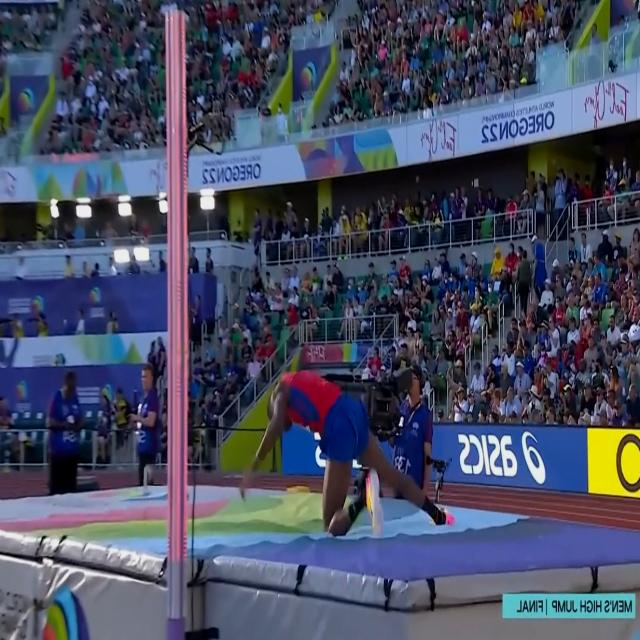land: (245, 368, 453, 536)
